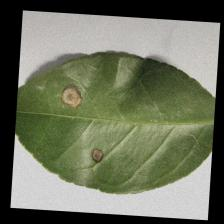canker: (49, 75, 129, 174)
